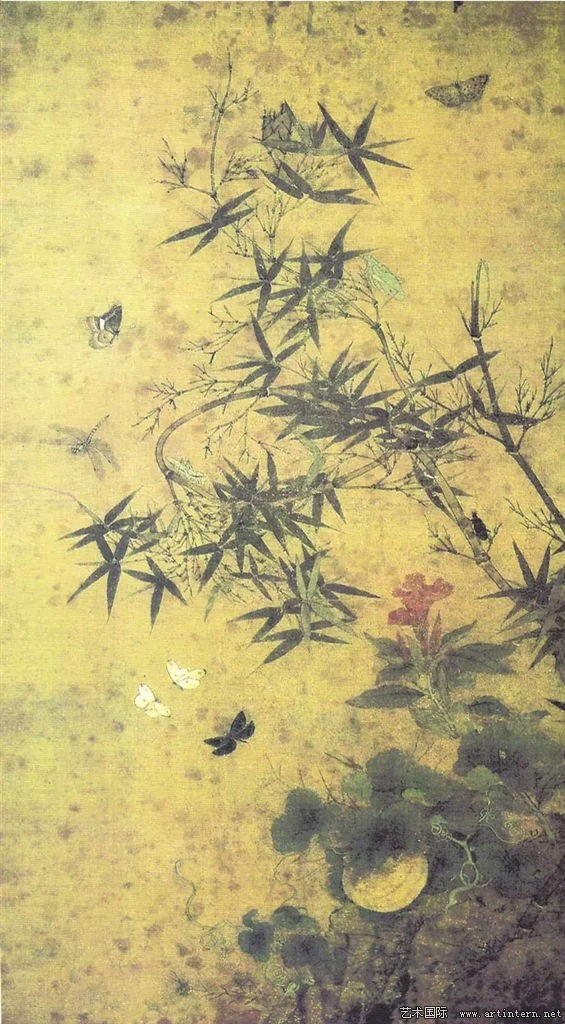butterfly: (111, 661, 288, 782), (26, 417, 133, 489), (404, 65, 501, 131), (59, 299, 138, 361)
flower: (368, 570, 463, 646)
hill: (267, 795, 565, 1024)
tree: (155, 206, 563, 662)
